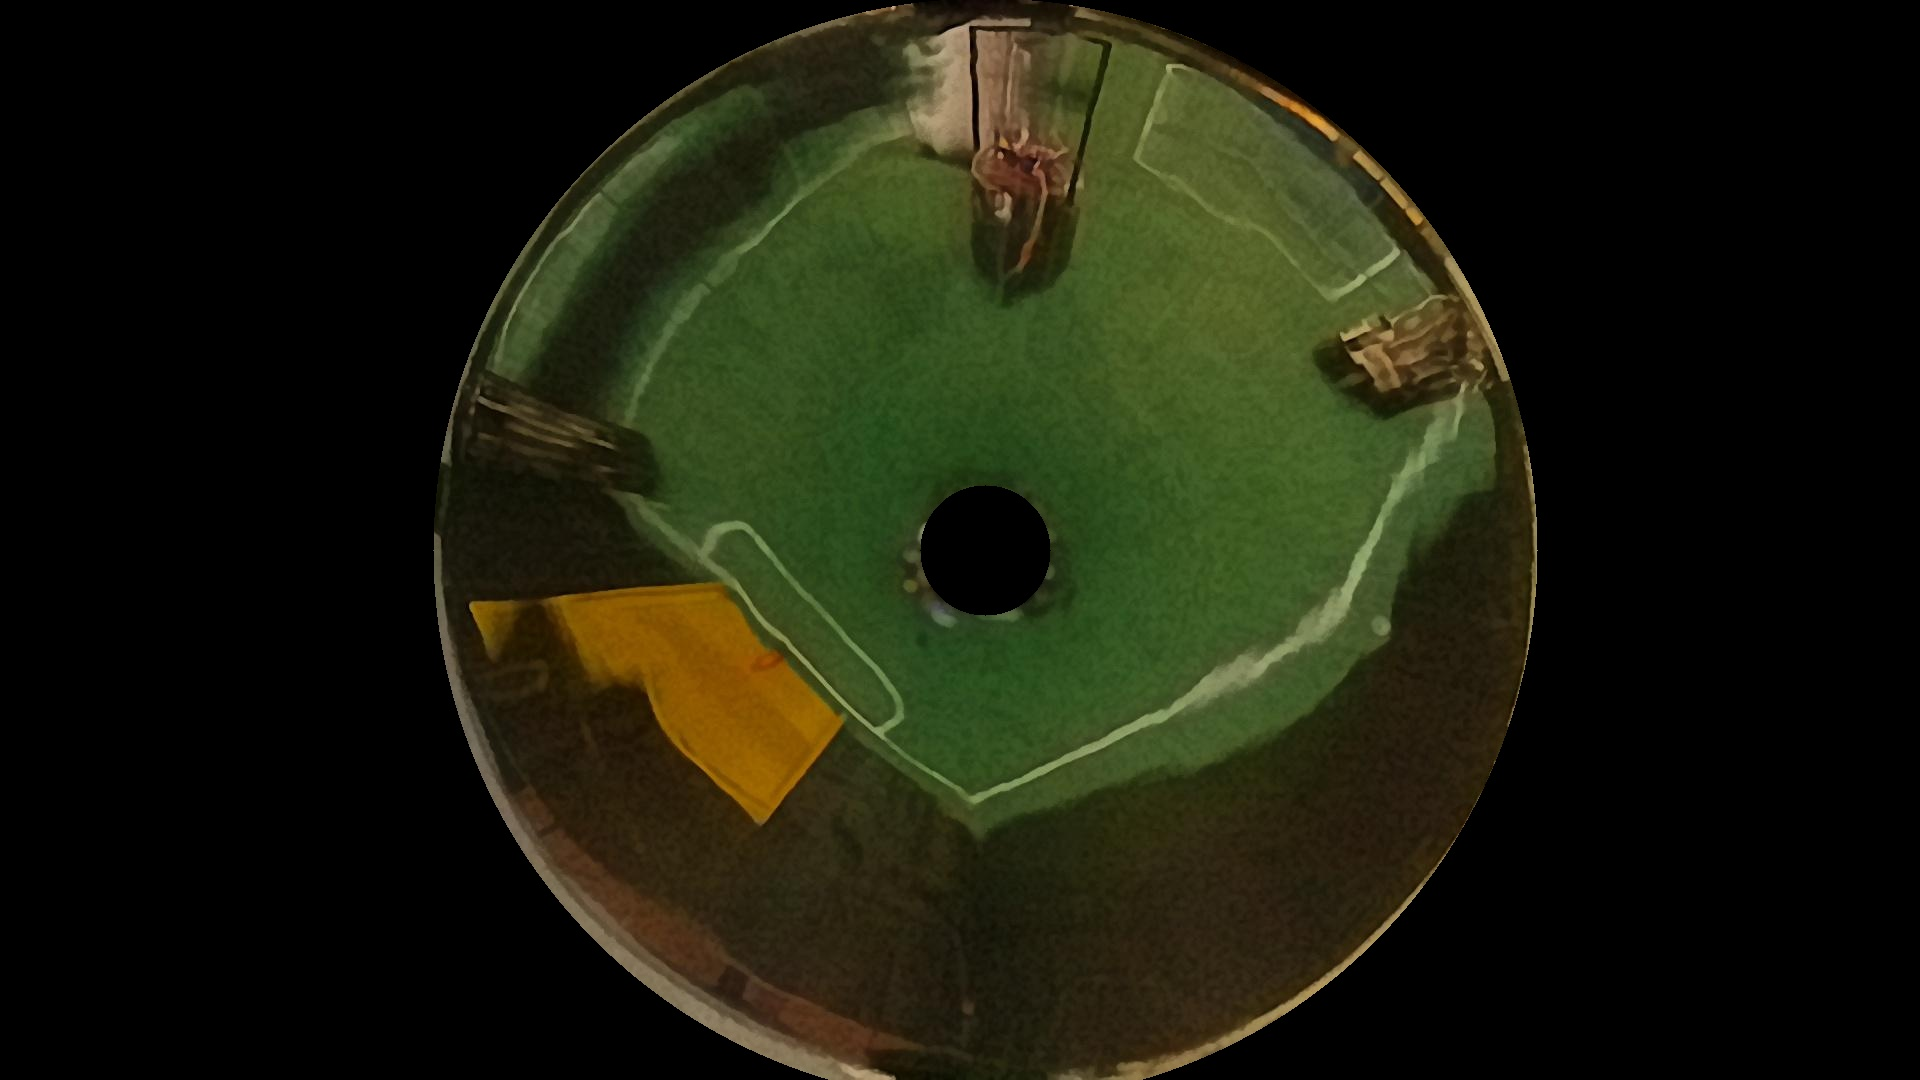ball: (740, 633, 790, 685)
blue-goal: (1227, 93, 1408, 193)
robots: (943, 35, 1118, 283), (467, 363, 682, 507), (1313, 283, 1525, 415)
yellow-goal: (510, 590, 848, 810)
